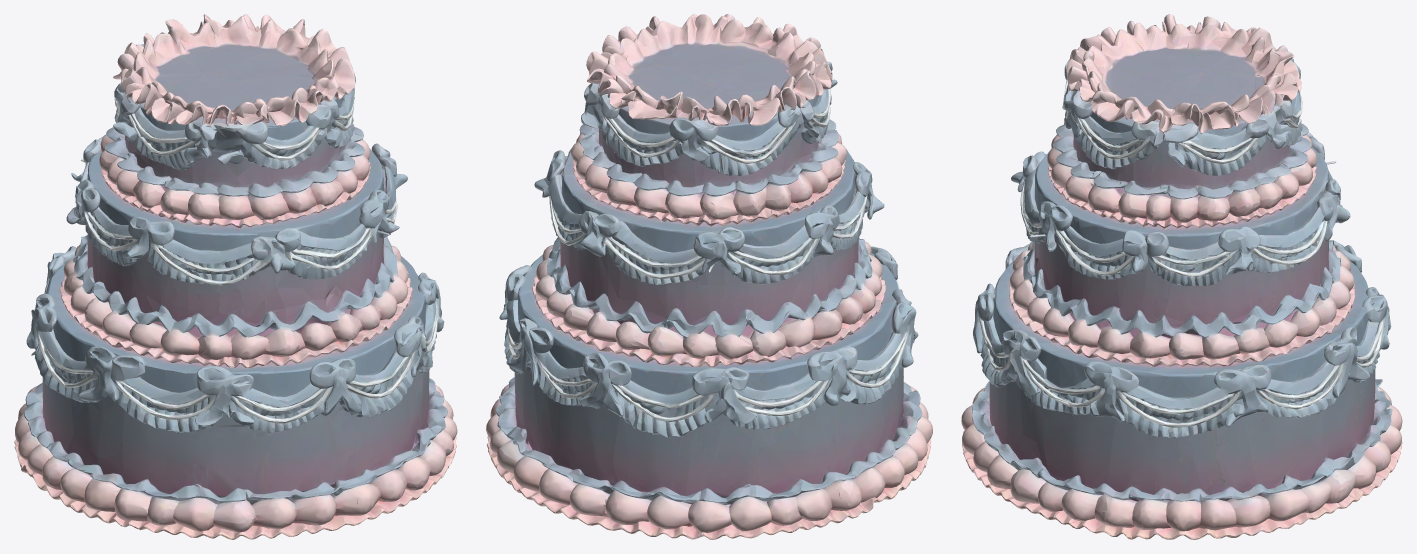
File: ombre_cake.glb
3 views of the same model, side by side, from view 1: azimuth 30°, elevation 25°; view 2: azimuth 150°, elevation 25°; view 3: azimuth 270°, elevation 25° (orthographic).
Visible parts, largest first — view 1: output_unwrapped; view 2: output_unwrapped; view 3: output_unwrapped.
Part boxes in pixels (box(x1,y1,x2,y2)): output_unwrapped: box(14, 14, 457, 539); output_unwrapped: box(486, 14, 932, 539); output_unwrapped: box(961, 14, 1402, 539).
Size of the model in its own units: 1.9 by 1.87 by 1.9.
Materials: 1 (1 with a texture image).
